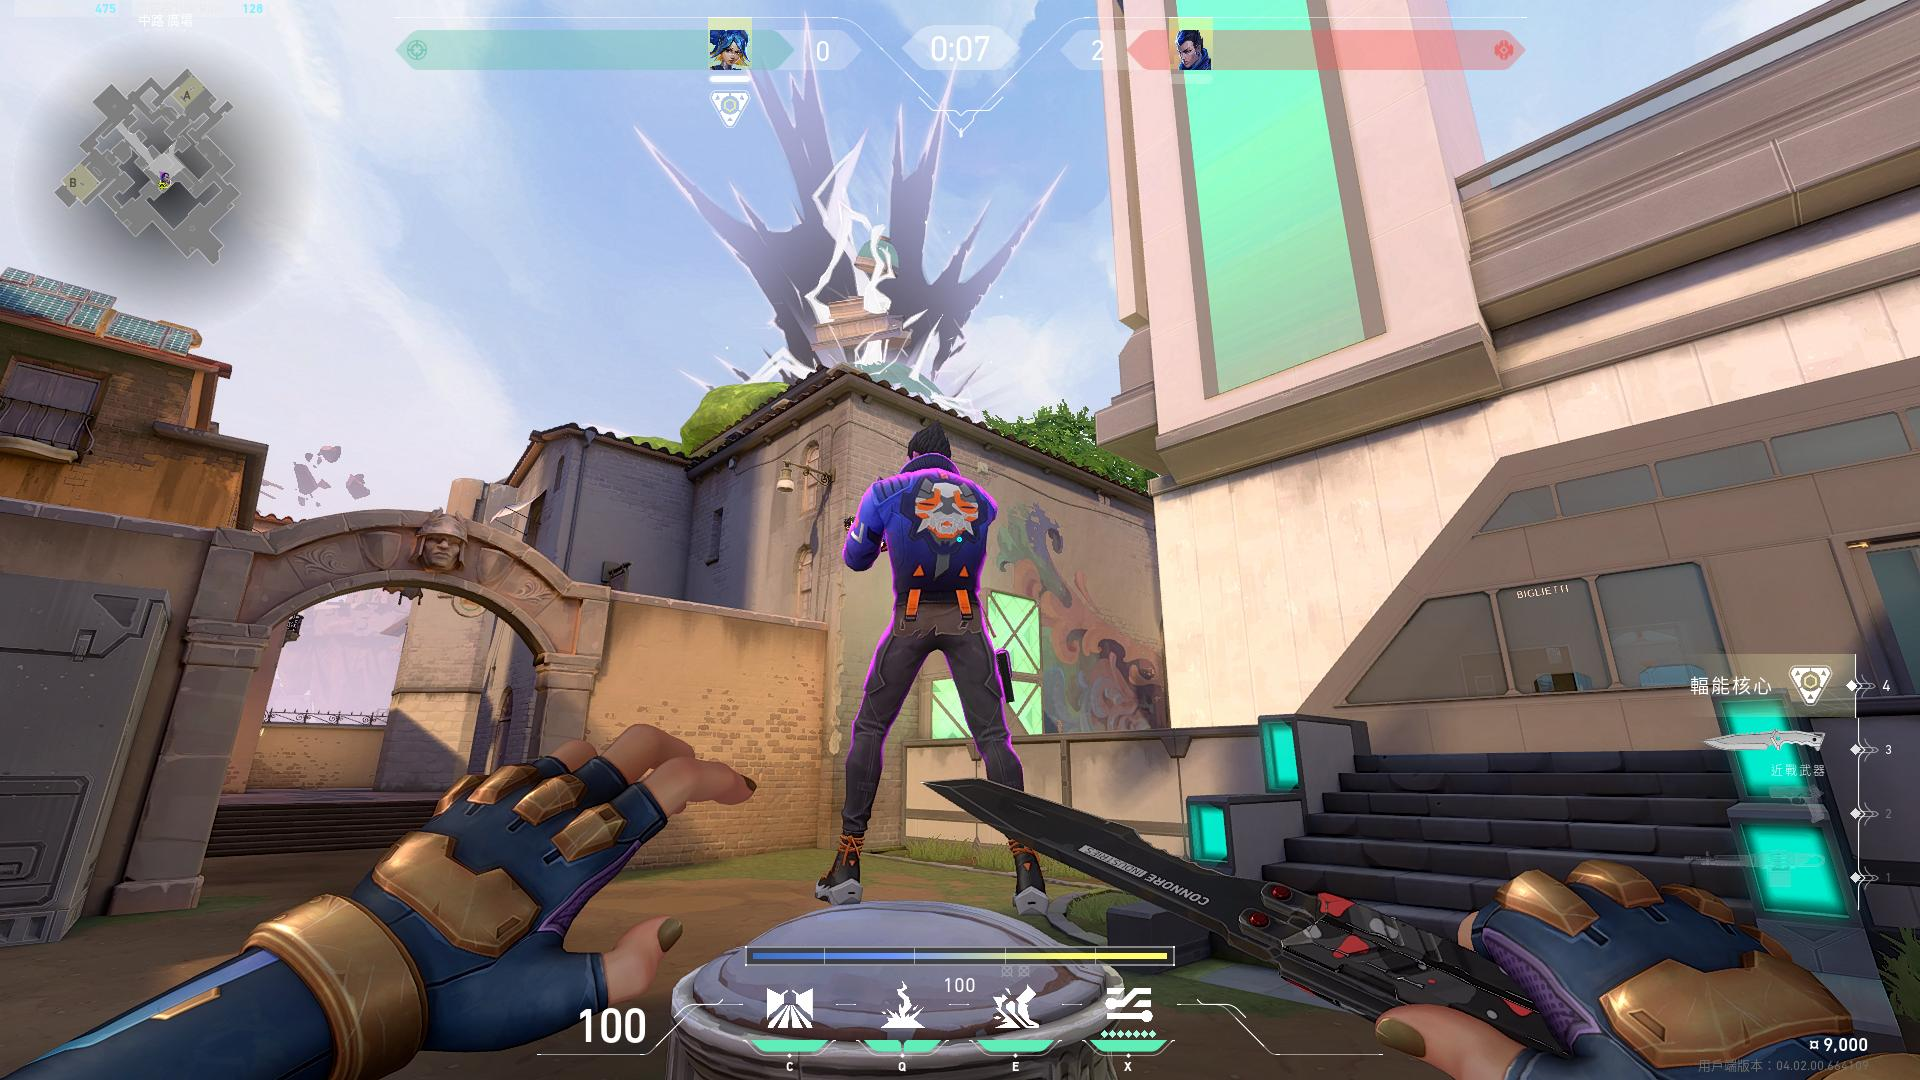enemyBody: (889, 484, 985, 566), (911, 433, 945, 467)
